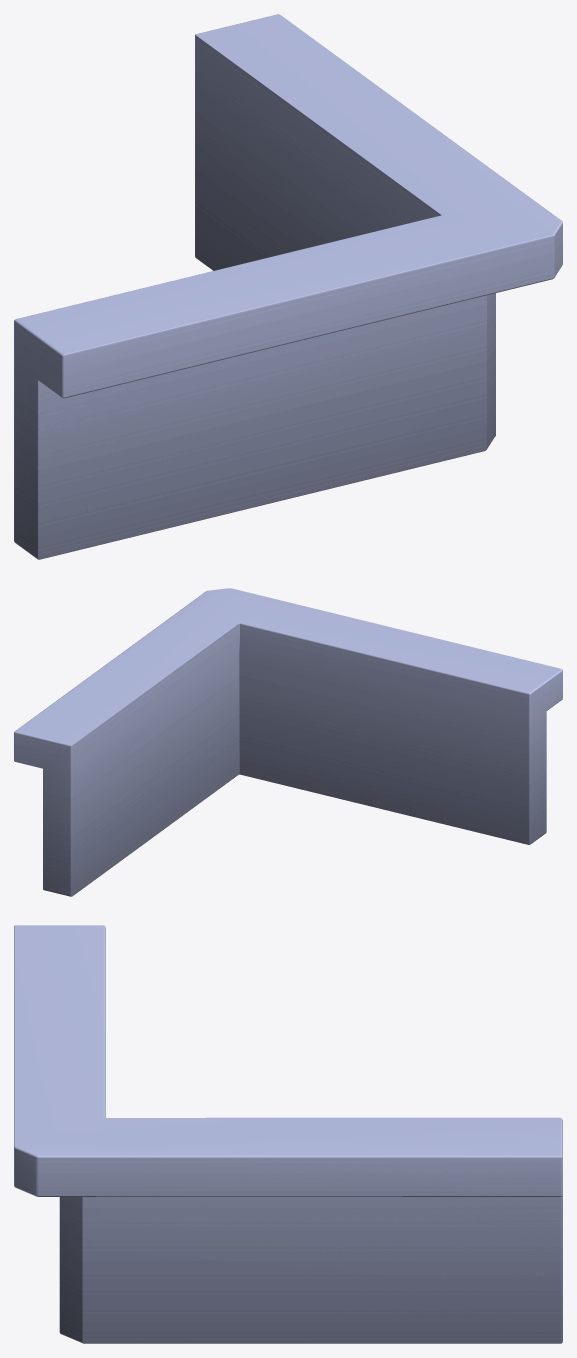
File: border-high-corner-small.glb
3 renders of one model, top to bottom at view 1: azimuth 30°, elevation 25°; view 2: azimuth 150°, elevation 25°; view 3: azimuth 270°, elevation 25°, orthographic. The views are drawn at different scales.
Visible parts, largest first — view 1: border-high-corner-small; view 2: border-high-corner-small; view 3: border-high-corner-small.
Boxes of the visible parts, bbox=[...] form: border-high-corner-small: bbox=[14, 14, 562, 559]; border-high-corner-small: bbox=[14, 588, 562, 896]; border-high-corner-small: bbox=[14, 925, 562, 1343].
Size of the model in its own units: 1.2 by 0.5 by 1.2.
Materials: 1 (1 with a texture image).
